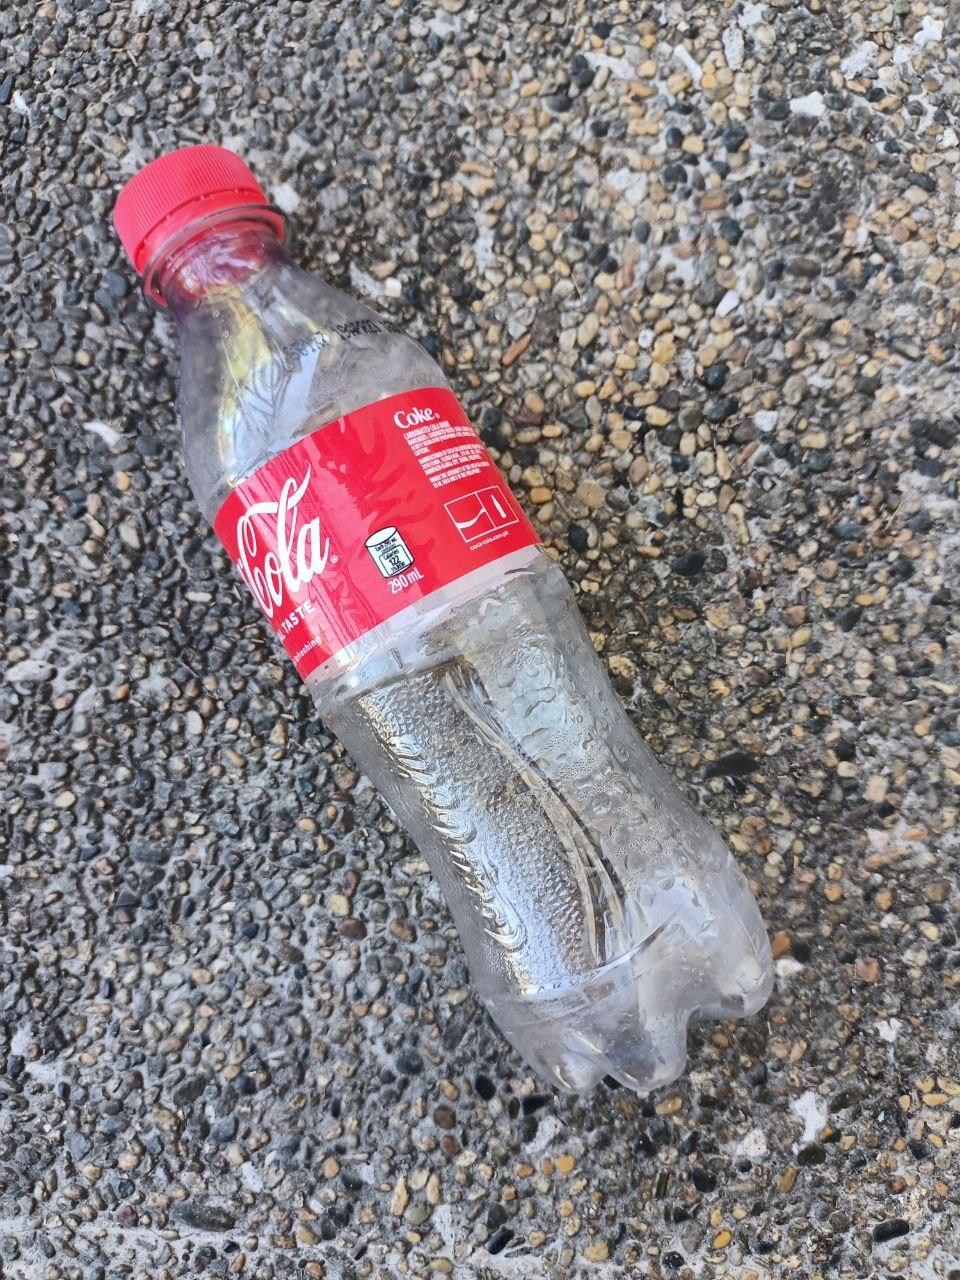plastic: (53, 137, 795, 1144)
